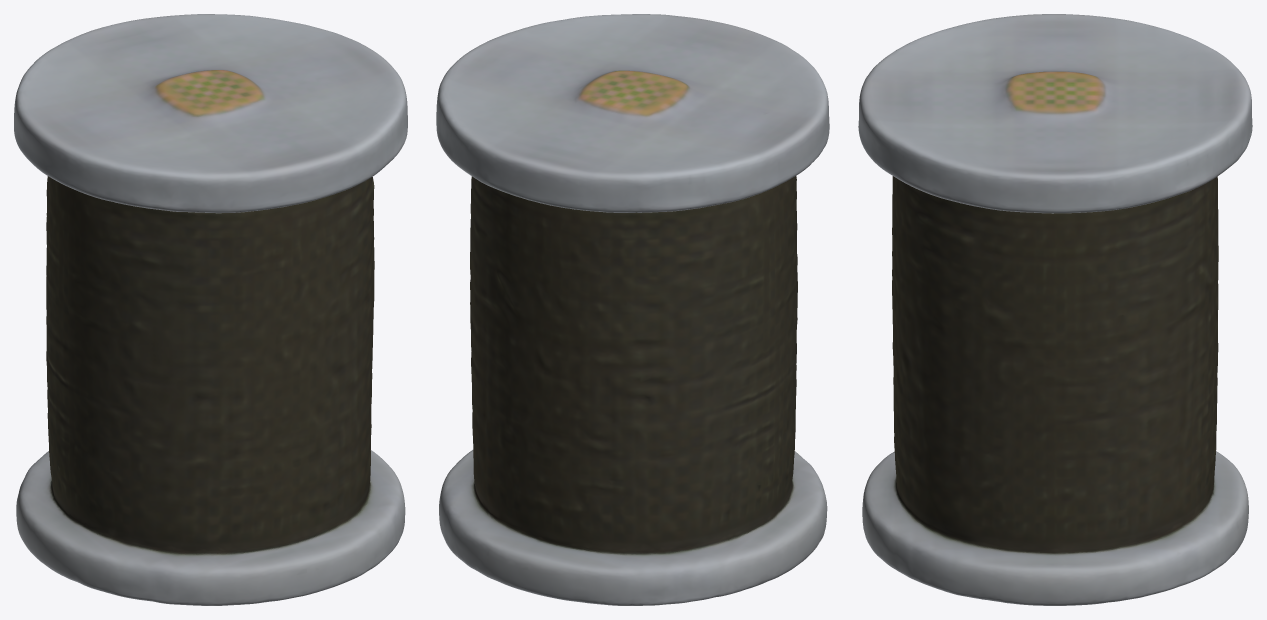
The model's file is thread.glb.
3 renders of one model, left to right at view 1: azimuth 30°, elevation 25°; view 2: azimuth 150°, elevation 25°; view 3: azimuth 270°, elevation 25°, orthographic.
Visible parts, largest first — view 1: thread_spool; view 2: thread_spool; view 3: thread_spool.
Boxes of the visible parts, x1=… form: thread_spool: x1=14, y1=14, x2=407, y2=605; thread_spool: x1=436, y1=14, x2=829, y2=605; thread_spool: x1=858, y1=14, x2=1252, y2=605.
Bounding box in the file's own units: 0.3882 × 0.4733 × 0.3874.
1 material, 1 textured.
